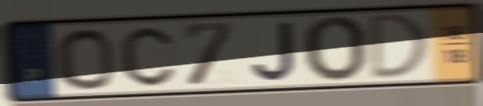7: (182, 19, 236, 89)
C: (118, 25, 177, 89)
D: (369, 11, 432, 83)
J: (250, 19, 298, 83)
O: (300, 14, 370, 85), (52, 26, 117, 92)
